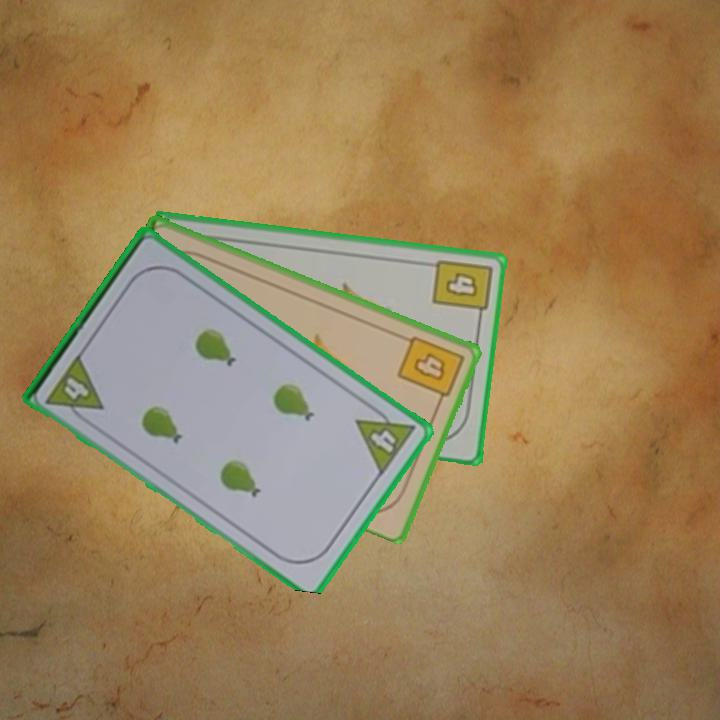4b: (393, 331, 467, 409), (429, 255, 495, 325)
4p: (352, 399, 418, 479), (42, 350, 107, 428)
